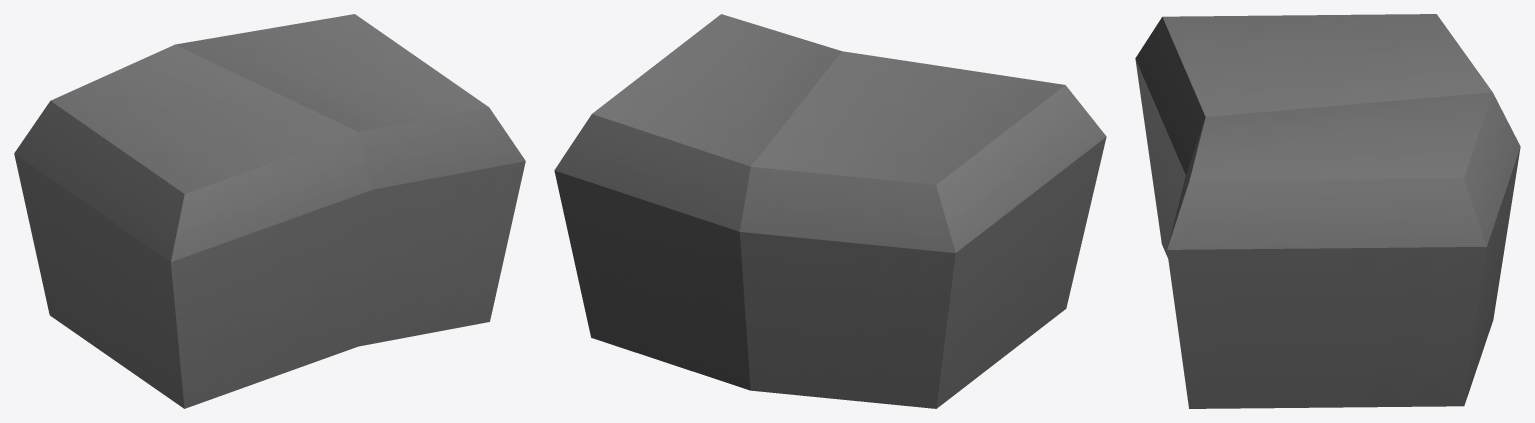
Rendered from pack02_rocks_24.fbx.
3 renders of one model, left to right at view 1: azimuth 30°, elevation 25°; view 2: azimuth 150°, elevation 25°; view 3: azimuth 270°, elevation 25°, orthographic. The views are drawn at different scales.
Visible parts, largest first — view 1: Rock Type6 04 mesh; view 2: Rock Type6 04 mesh; view 3: Rock Type6 04 mesh.
Boxes of the visible parts, left/top/right/bottom form: Rock Type6 04 mesh: left=14, top=14, right=525, bottom=408; Rock Type6 04 mesh: left=554, top=14, right=1106, bottom=408; Rock Type6 04 mesh: left=1135, top=14, right=1520, bottom=408.
Size of the model in its own units: 79.52 by 43.37 by 66.51.
Materials: 1 (1 with a texture image).
